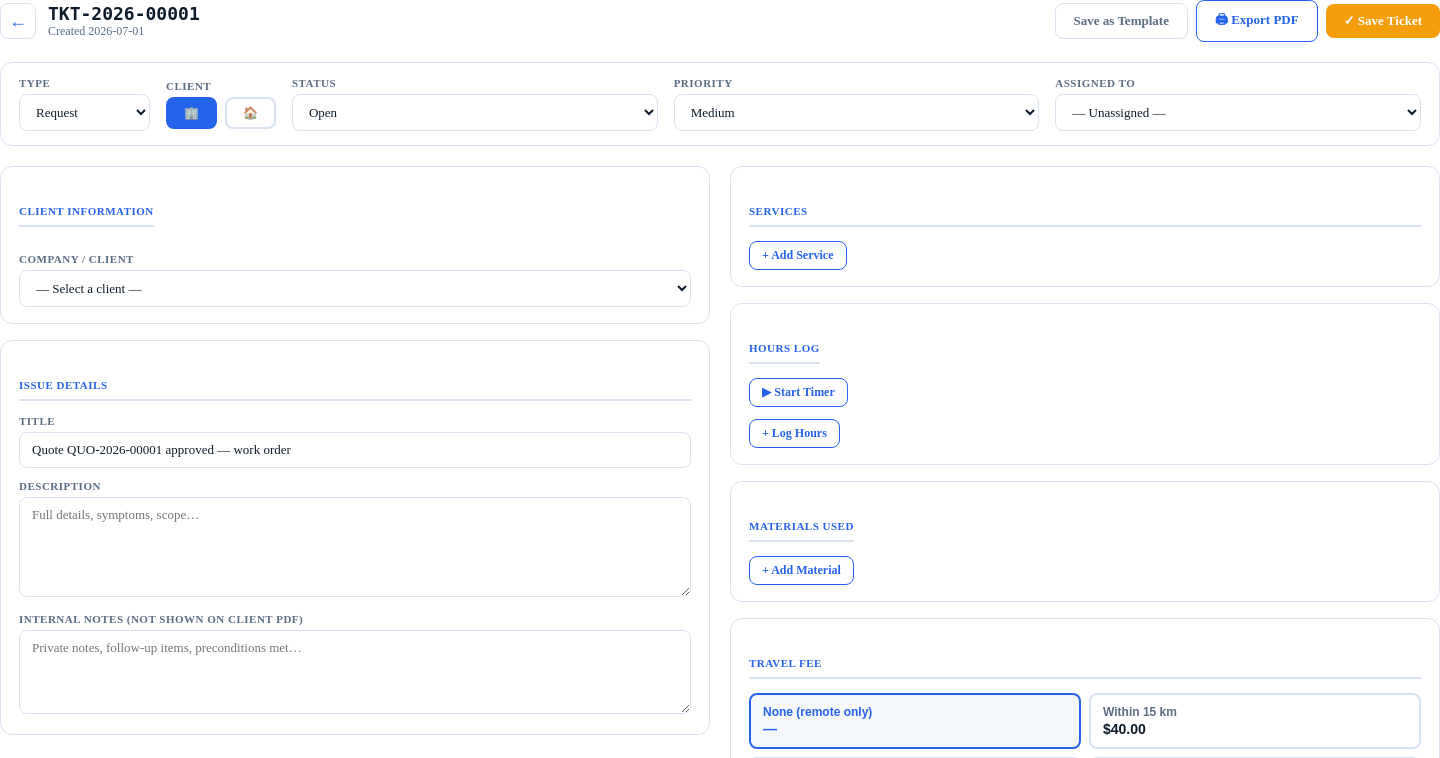
Test: clicking Not now dismisses the prompt and still proceeds with the save
Select "Resolved" in the dropdown showing "Open" below "Status" at (475, 112), box x1=292 y1=94 x2=658 y2=131
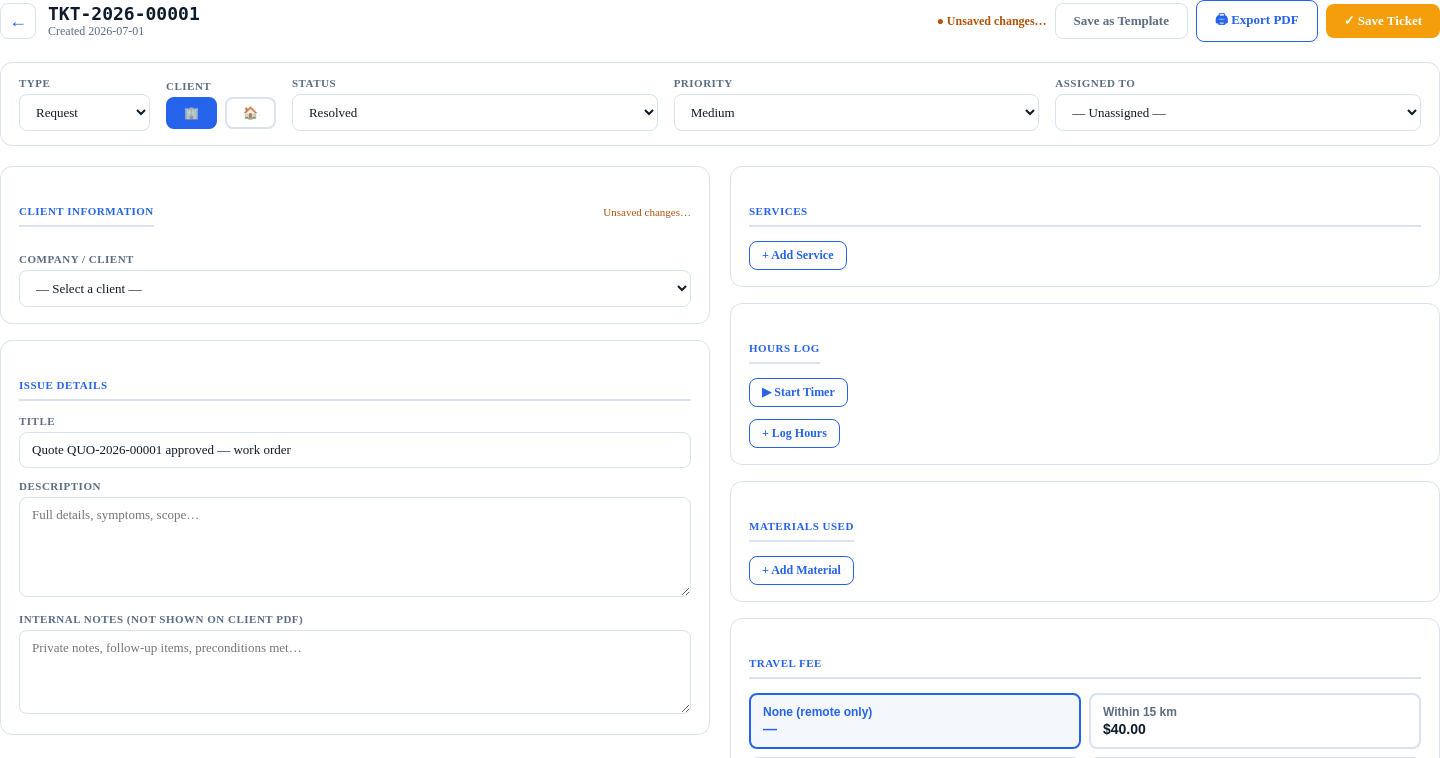
Click the button "✓ Save Ticket" at (1383, 21), box x1=1326 y1=4 x2=1439 y2=38
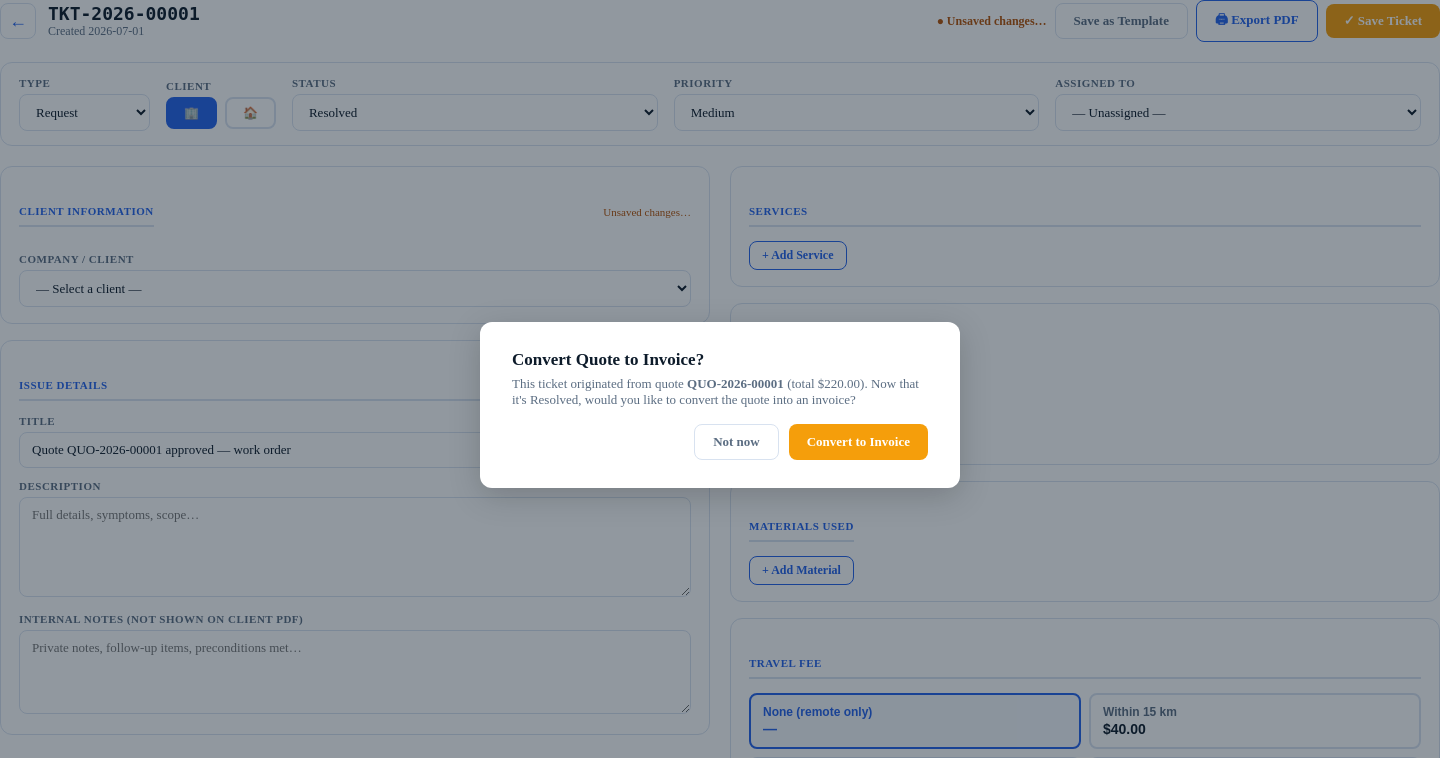
Check: the text "Convert Quote to Invoice?" is shown, box x1=512 y1=350 x2=704 y2=369
Click the button "Not now" at (736, 442), box x1=694 y1=424 x2=779 y2=460
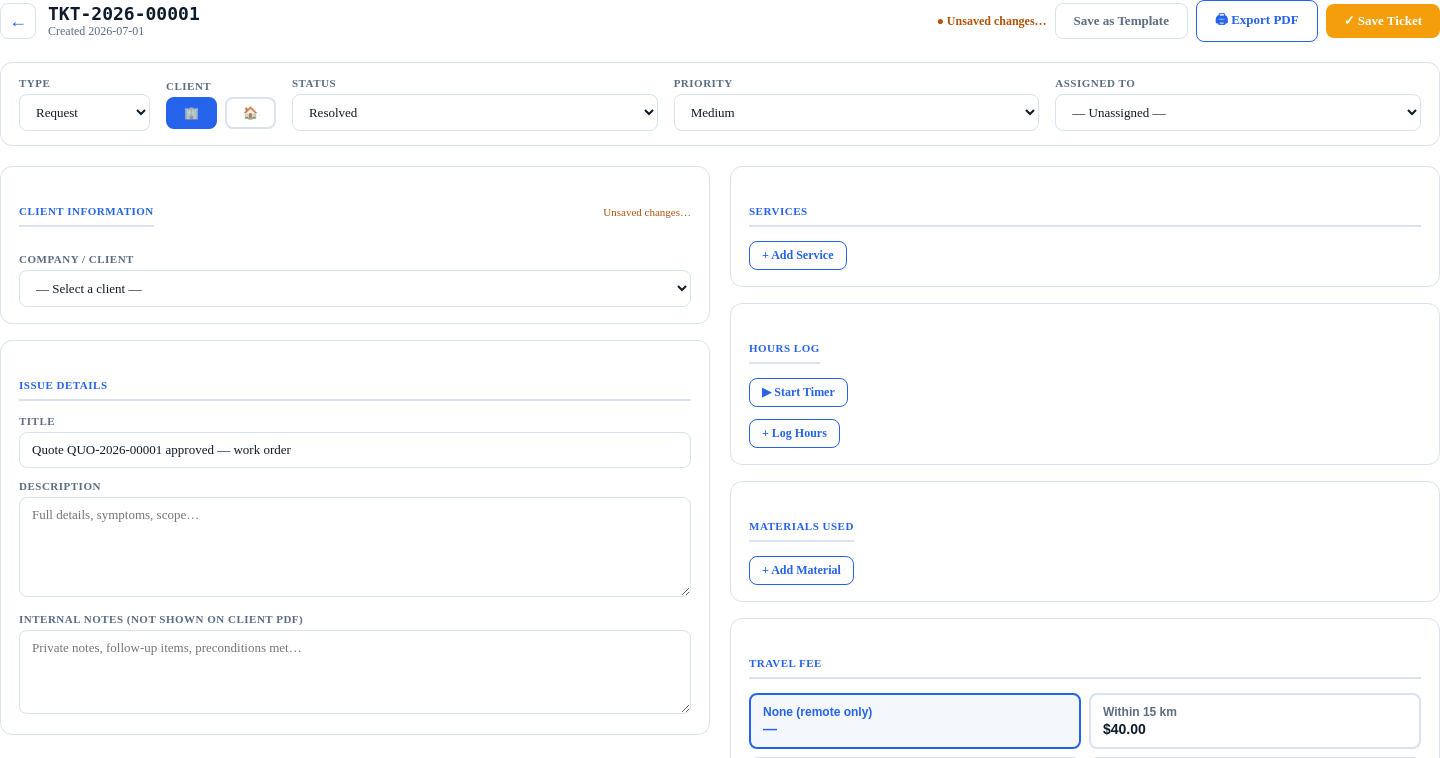
Check: the text "Convert Quote to Invoice?" is gone
